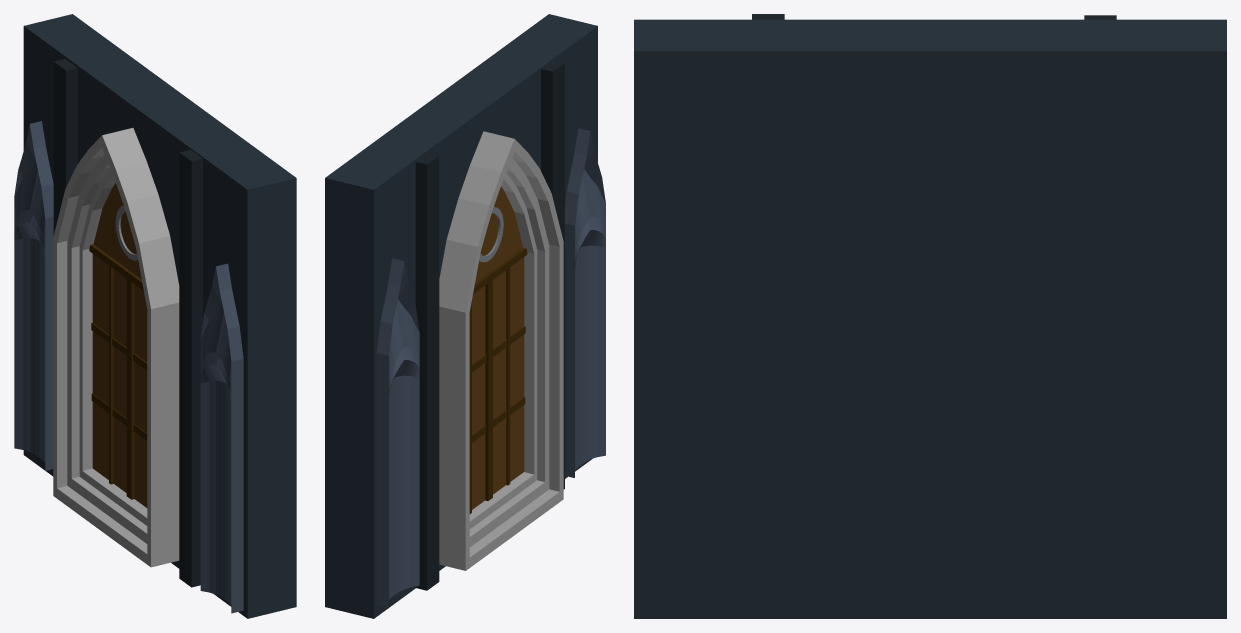
The model's file is main_Door.glb.
3 renders of one model, left to right at view 1: azimuth 30°, elevation 25°; view 2: azimuth 150°, elevation 25°; view 3: azimuth 270°, elevation 25°, orthographic. The views are drawn at different scales.
Visible parts, largest first — view 1: Cube.008, khungcua001, Cube.007, Cube.009, Cube, Cube.011, khungcua002, khungcua003, Cube.010, Cube.001, Cube.003, Cube.004 (+2 smaller); view 2: Cube.008, khungcua001, Cube.009, Cube.007, Cube, Cube.010, khungcua002, khungcua003, Cube.011, Cube.001, Cube.002, Cube.003 (+3 smaller); view 3: Cube.008.
Part boxes in pixels (box(x1,y1,x2,y2)): Cube.008: box(23, 14, 296, 618); khungcua001: box(53, 128, 179, 567); Cube.007: box(200, 263, 243, 613); Cube.009: box(14, 121, 53, 470); Cube: box(92, 183, 147, 507); Cube.011: box(179, 149, 202, 587); khungcua002: box(67, 154, 147, 543); khungcua003: box(79, 169, 147, 525); Cube.010: box(53, 59, 77, 235); Cube.001: box(126, 279, 134, 499); Cube.003: box(109, 266, 113, 484); Cube.004: box(89, 244, 143, 290); Cube.008: box(325, 14, 597, 618); khungcua001: box(439, 131, 563, 570); Cube.009: box(376, 258, 419, 608); Cube.007: box(565, 128, 605, 477); Cube: box(472, 186, 524, 509); Cube.010: box(415, 153, 439, 590); khungcua002: box(469, 158, 549, 547); khungcua003: box(469, 172, 537, 529); Cube.011: box(541, 60, 564, 489); Cube.001: box(485, 280, 492, 500); Cube.002: box(506, 267, 510, 485); Cube.003: box(469, 301, 471, 513); Cube.008: box(634, 19, 1226, 618).
Bounding box in the file's own units: 2.78 × 14.21 × 13.45.
